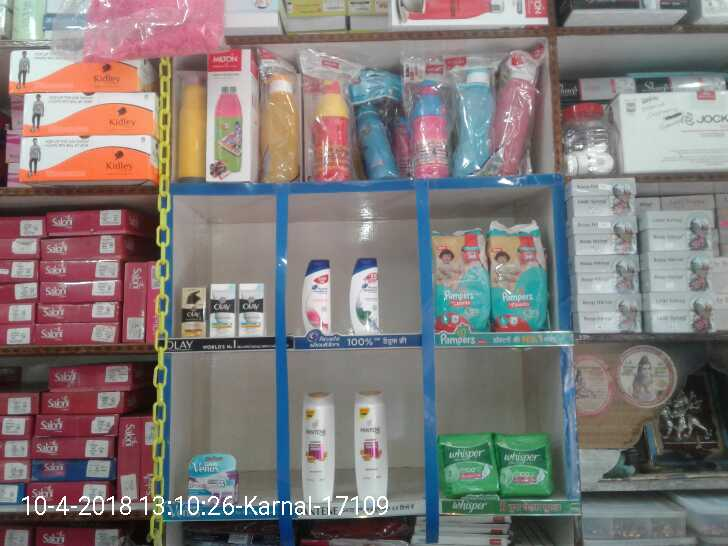venus: (187, 453, 237, 503)
